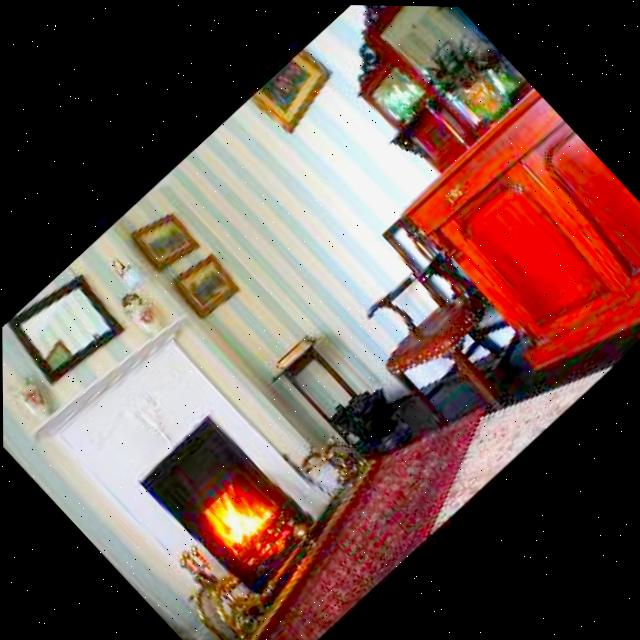Fire: (188, 465, 294, 572)
